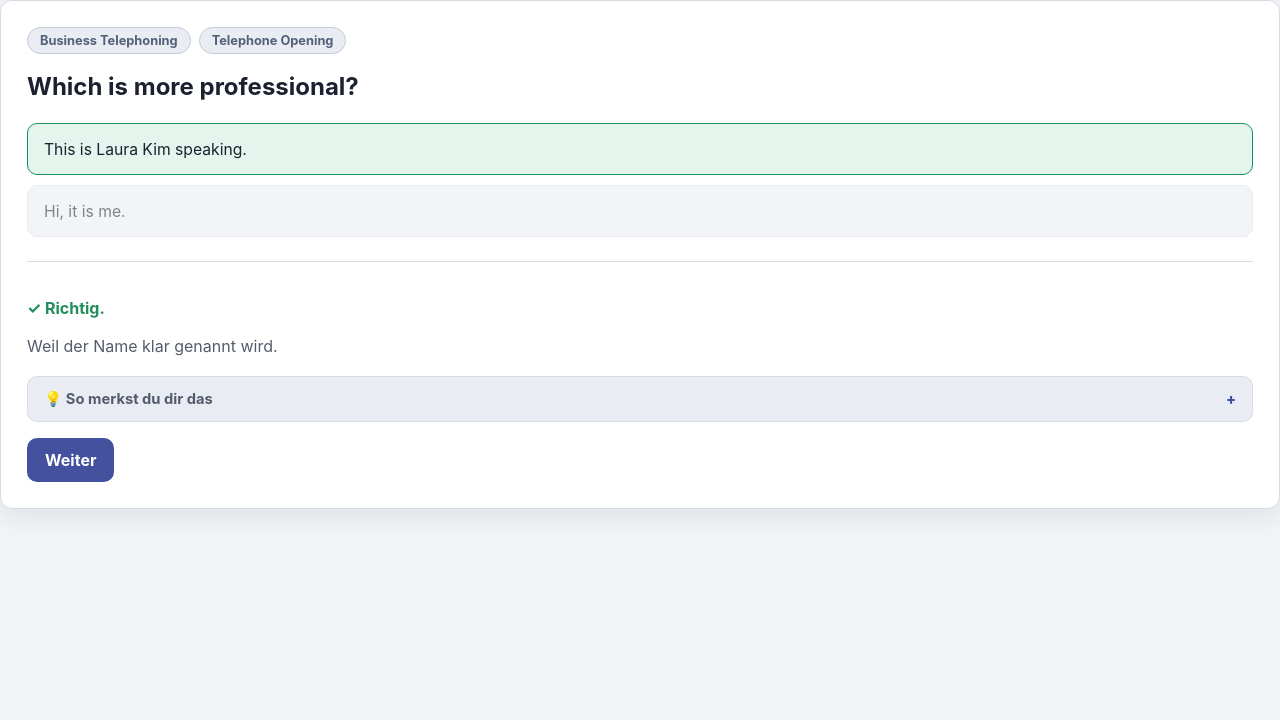
Test: ChoiceCard - Auswertung › zeigt den Merksatz nur nach Aufklappen und nur wenn memoryHint vorhanden ist
This screenshot has width=1280, height=720.
Click the button with class "memory-hint-toggle": (128, 399) top-left (28, 377), bottom-right (1252, 421)
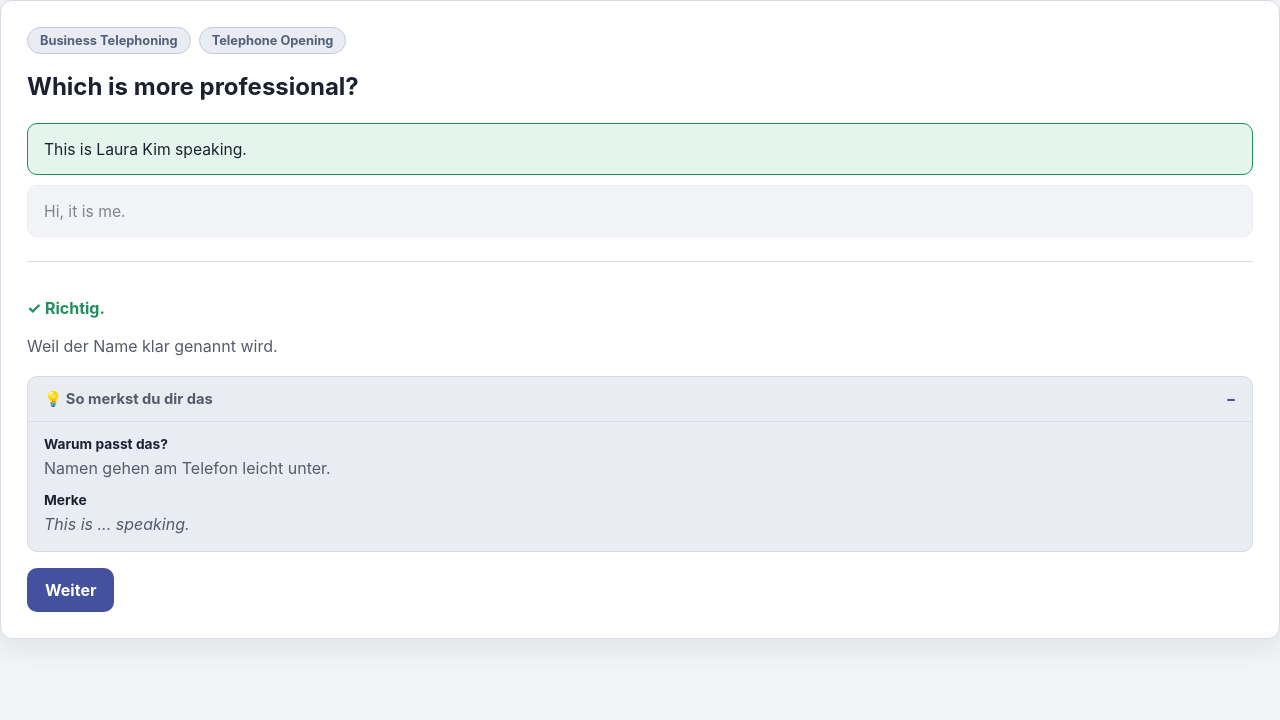
Check: the element with class "memory-hint-content" is shown, box top-left (28, 421), bottom-right (1252, 551)
Check: the text "This is ... speaking." is shown, box top-left (44, 514), bottom-right (190, 534)
